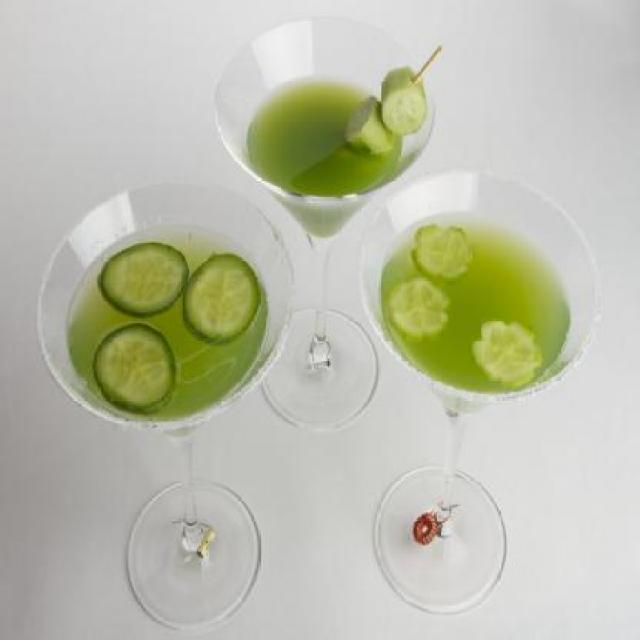Cucumber: (94, 233, 186, 321), (94, 324, 178, 416), (182, 253, 262, 344), (471, 314, 542, 388), (388, 272, 450, 346), (412, 222, 476, 284), (380, 64, 428, 138), (343, 97, 399, 160)
